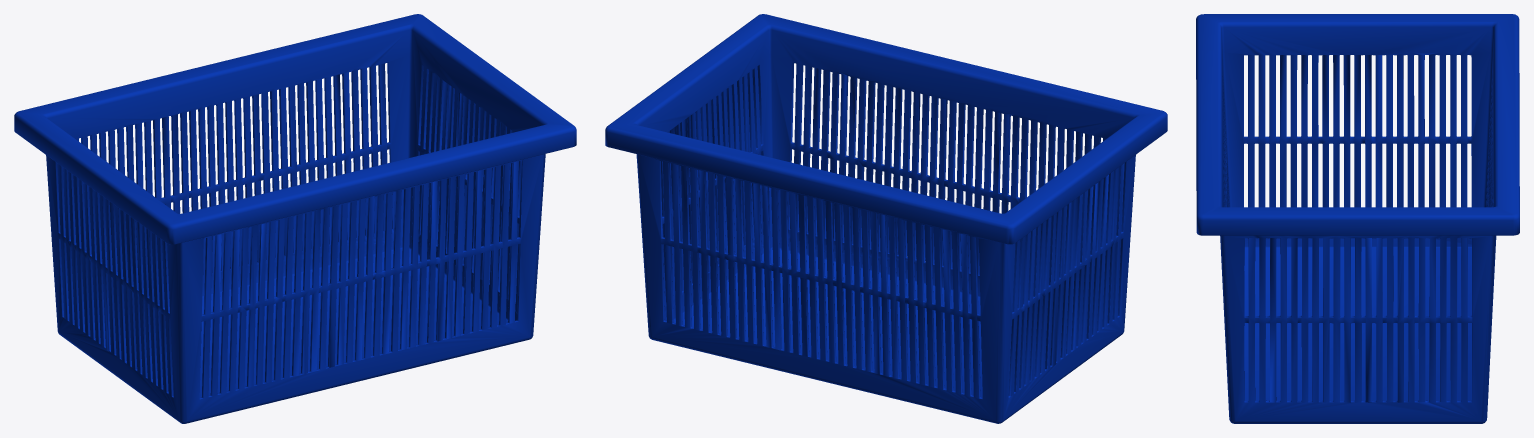
The model's file is basket_collision.dae.
The picture shows the model from 3 angles, left to right: view 1: azimuth 30°, elevation 25°; view 2: azimuth 150°, elevation 25°; view 3: azimuth 270°, elevation 25°; orthographic projection. The views are drawn at different scales.
Parts seen in each view (by area): view 1: Free 3D Shopping Baskets 3D Model; view 2: Free 3D Shopping Baskets 3D Model; view 3: Free 3D Shopping Baskets 3D Model.
Boxes of the visible parts, <box> form: Free 3D Shopping Baskets 3D Model: <box>14,14,576,423</box>; Free 3D Shopping Baskets 3D Model: <box>605,14,1167,423</box>; Free 3D Shopping Baskets 3D Model: <box>1196,14,1519,423</box>.
Bounding box in the file's own units: 17.89 × 11.99 × 9.1.
